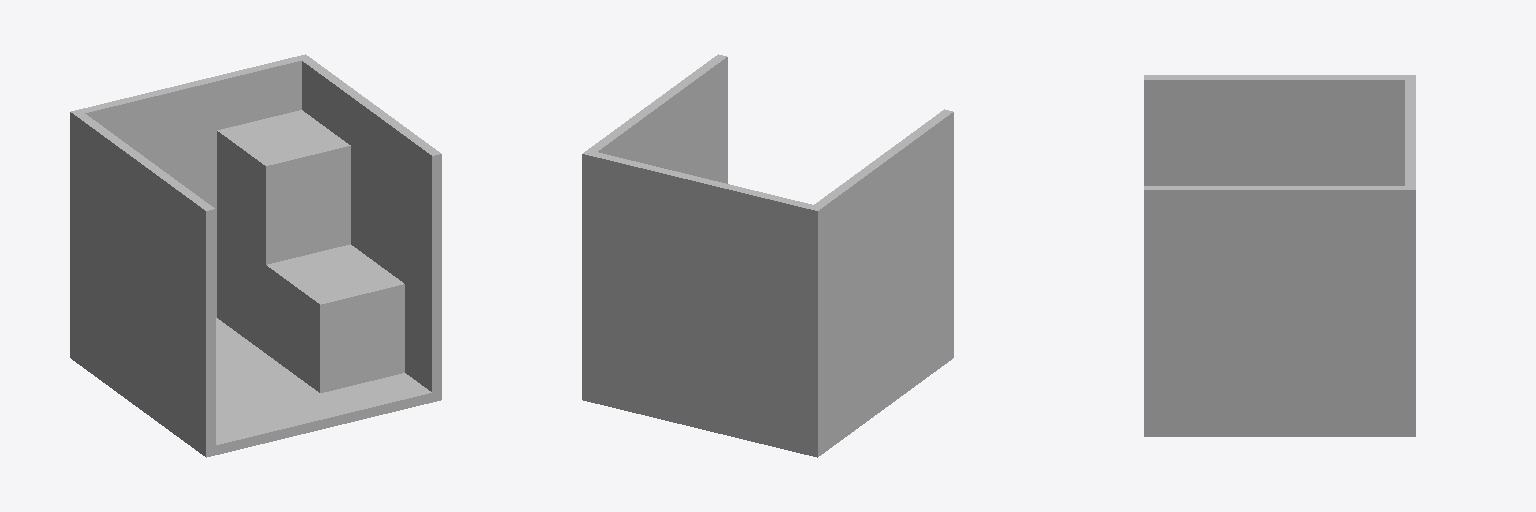
The model's file is coridor_end_stairs.obj.
3 views of the same model, side by side, from view 1: azimuth 30°, elevation 25°; view 2: azimuth 150°, elevation 25°; view 3: azimuth 270°, elevation 25° (orthographic).
Visible parts, largest first — view 1: pillar, Wall, step, step.001, wall, floor; view 2: wall, pillar, step, Wall, step.001, floor; view 3: Wall, pillar, step, wall.
Boxes of the visible parts, <box> form: pillar: <box>70,109,215,456</box>; Wall: <box>297,54,441,400</box>; step: <box>217,110,350,349</box>; step.001: <box>217,233,404,392</box>; wall: <box>70,55,305,360</box>; floor: <box>70,318,441,457</box>; wall: <box>582,152,822,456</box>; pillar: <box>808,109,953,453</box>; step: <box>582,204,675,422</box>; Wall: <box>582,54,727,400</box>; step.001: <box>582,302,675,421</box>; floor: <box>584,351,953,457</box>; Wall: <box>1144,186,1415,436</box>; pillar: <box>1144,75,1415,185</box>; step: <box>1307,240,1415,436</box>; wall: <box>1405,76,1415,436</box>.
Size of the model in its own units: 5 by 5 by 5.